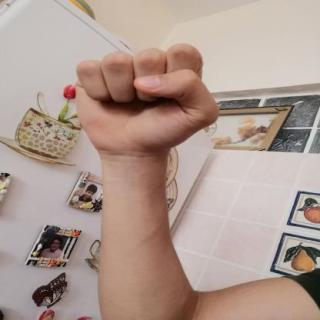SAD: (60, 36, 234, 168)
